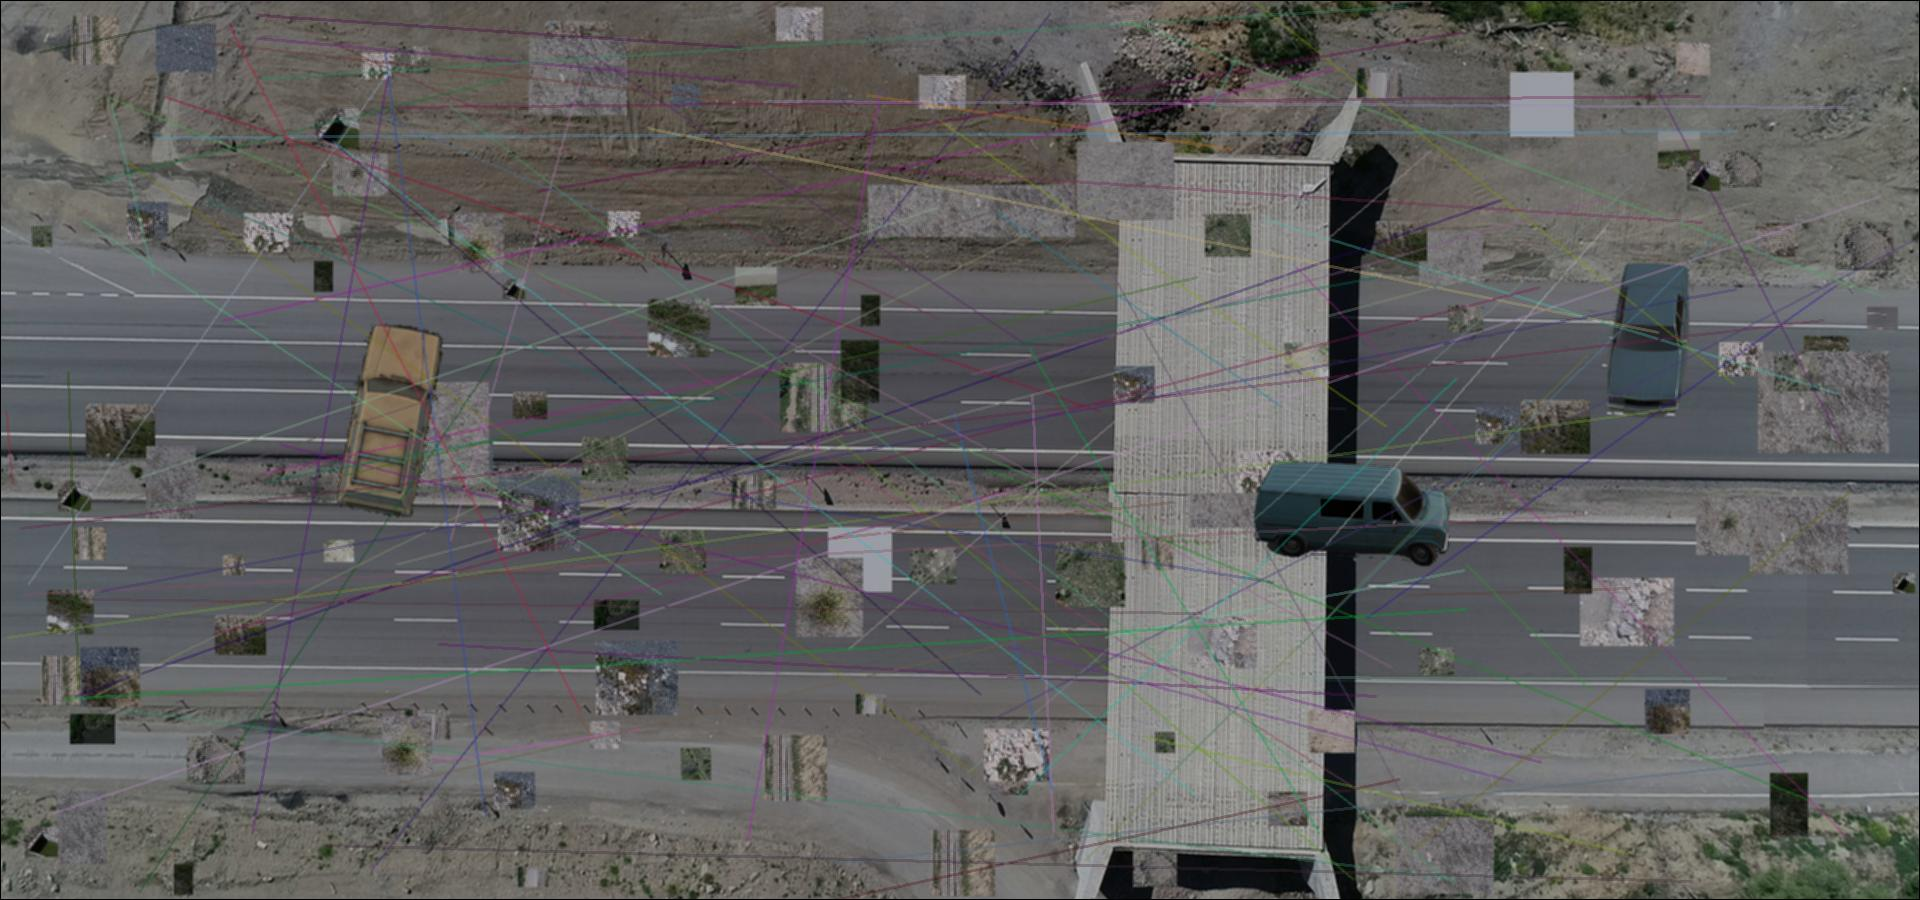arac: (1251, 457, 1452, 569), (337, 320, 443, 527), (1607, 261, 1693, 418)
